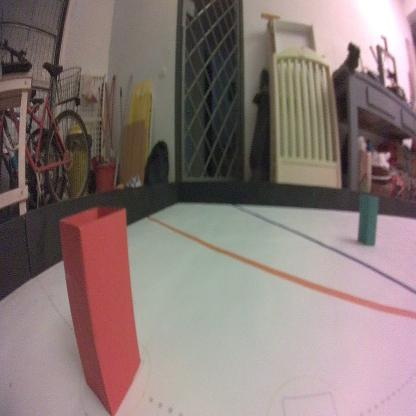green: (356, 188, 380, 244)
red: (59, 200, 143, 416)
